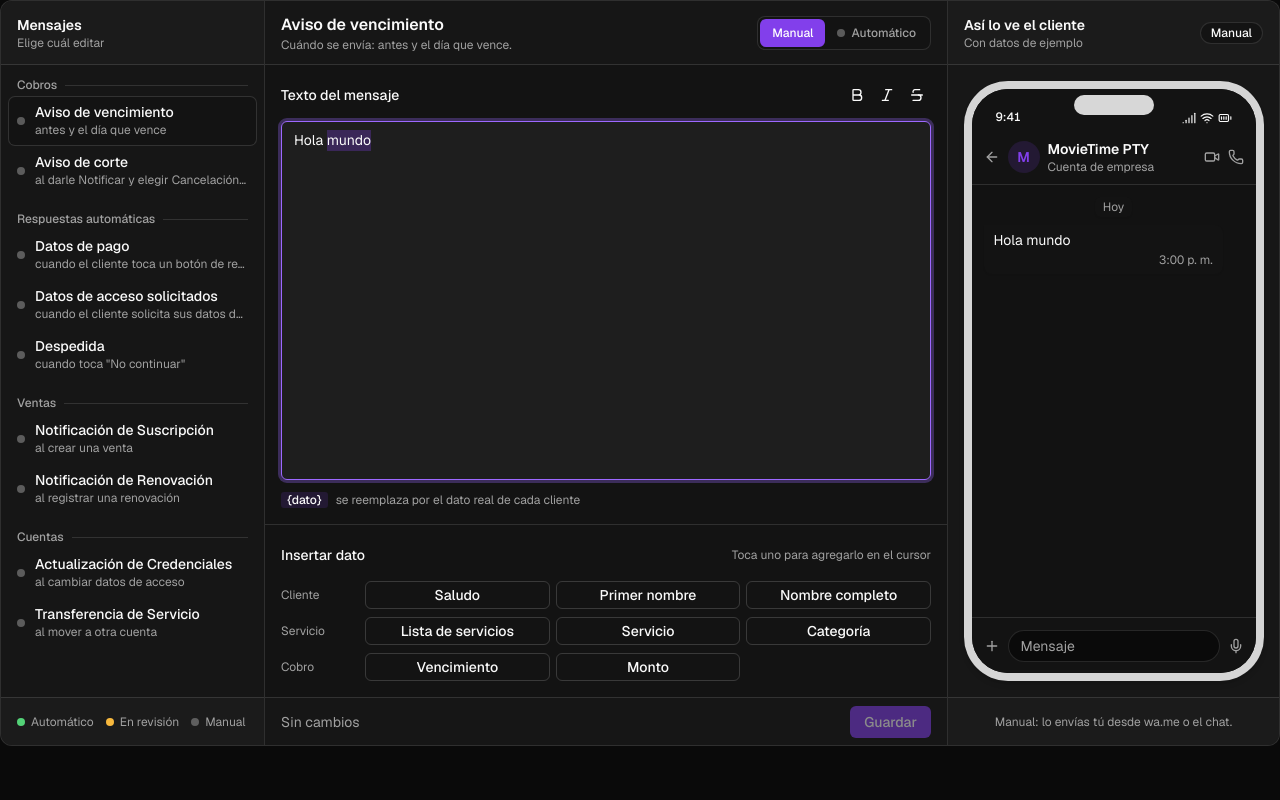
TemplateEditor › formats the selected text with WhatsApp marks from the toolbar
Click the button named "Negrita". click: (857, 95)
box: [843,81,871,109]
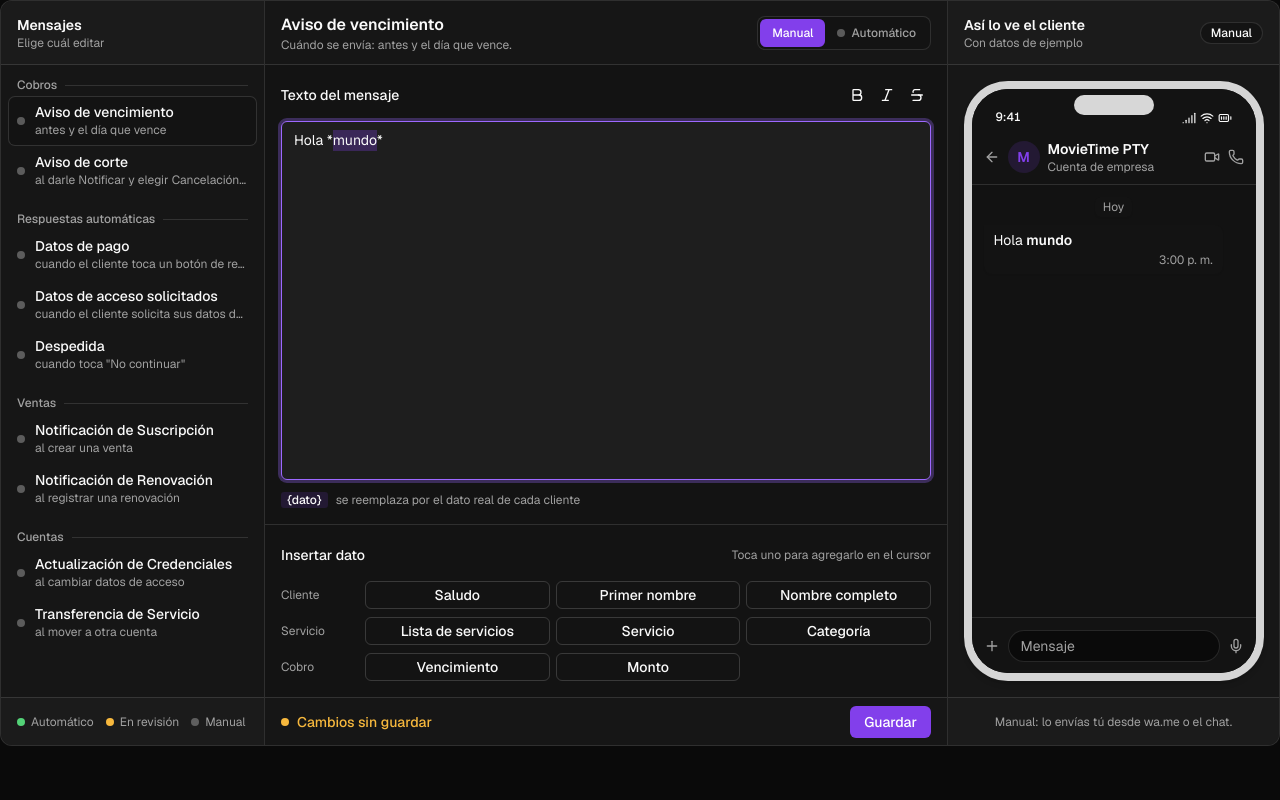
Expected: the text box holds "Hola *mundo*", [281,121,931,480]
